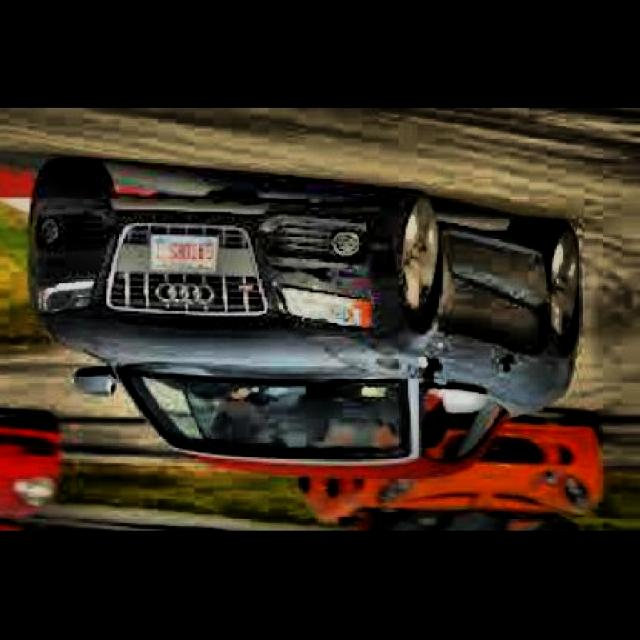black: (44, 164, 569, 466)
